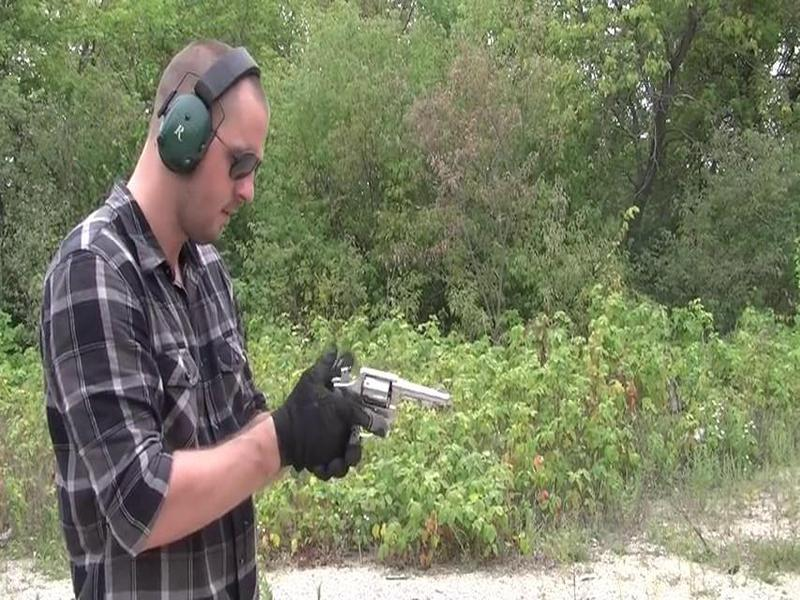Revolver: (311, 353, 442, 443)
